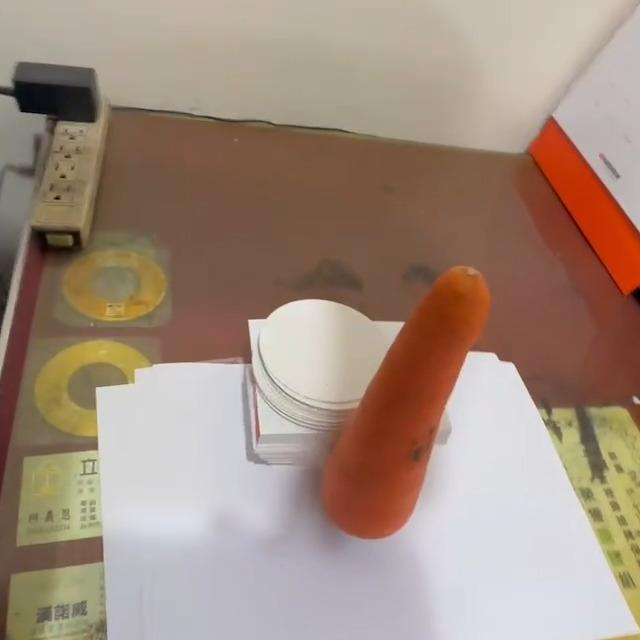carrot: (325, 269, 491, 538)
